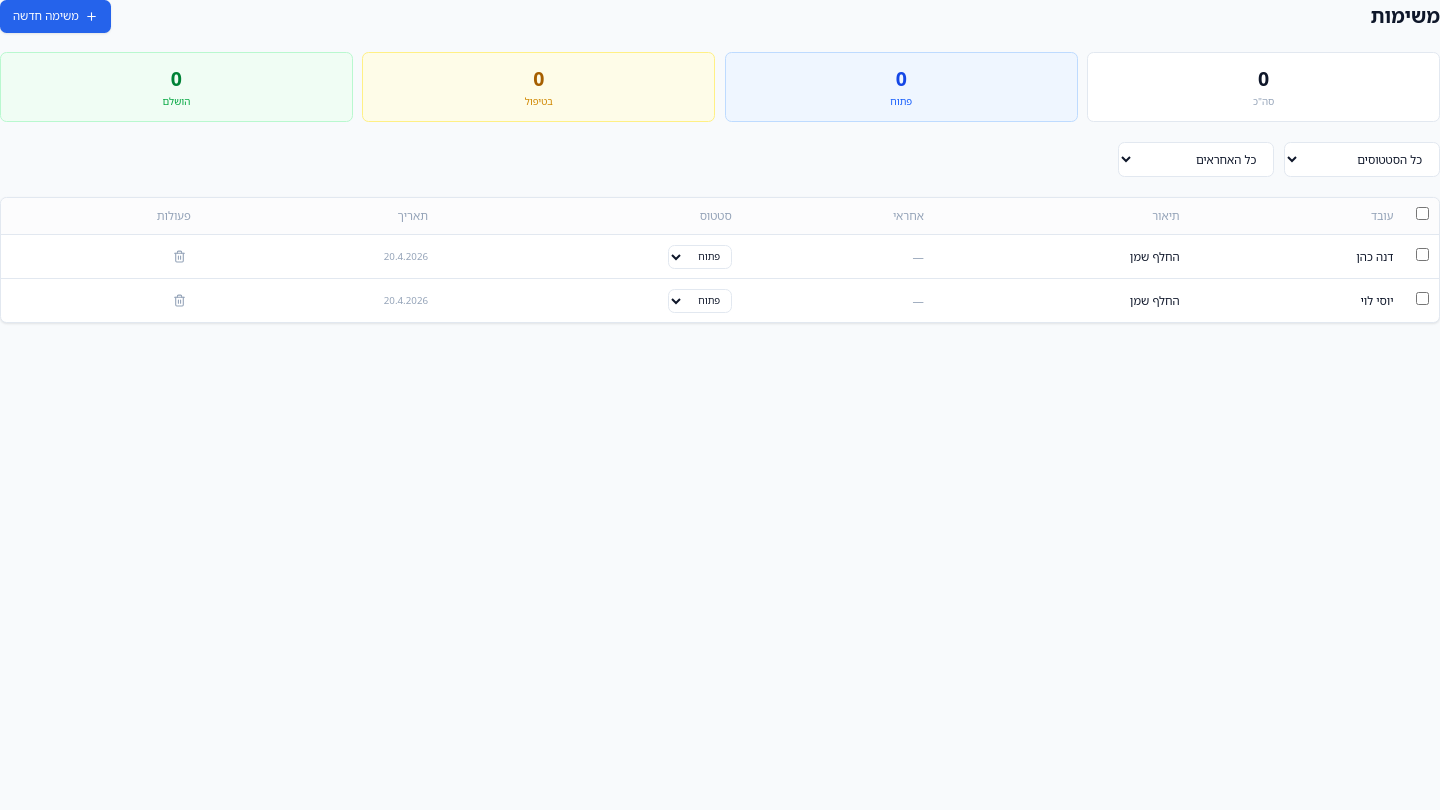
TasksClient — bulk delete flow › thrown error preserves selection and shows the error banner
Click the checkbox named "בחר דנה כהן — החלף שמן": coordinates (1423, 255) [1416,248,1429,261]
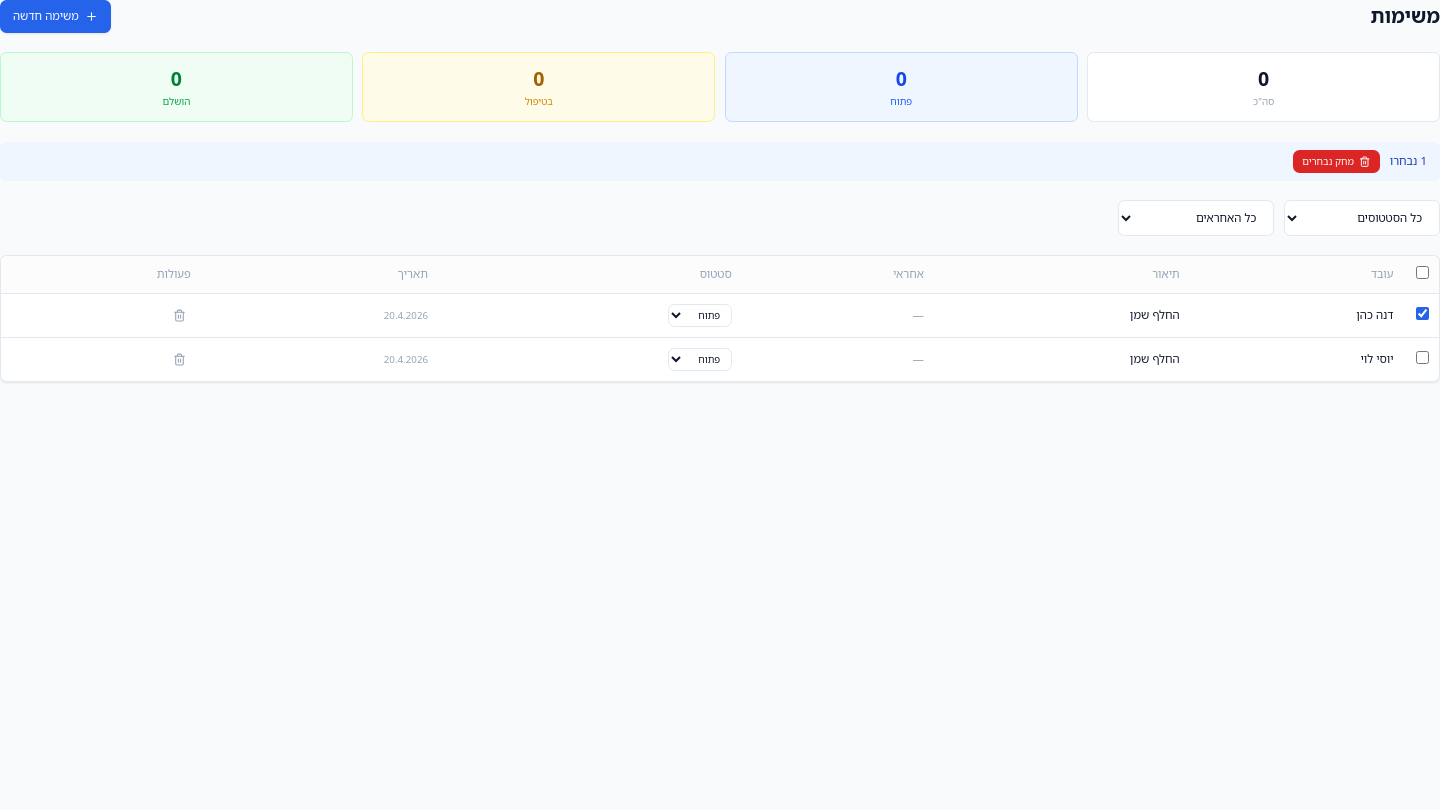
Click the checkbox named "בחר יוסי לוי — החלף שמן": coordinates (1423, 357) [1416,351,1429,364]
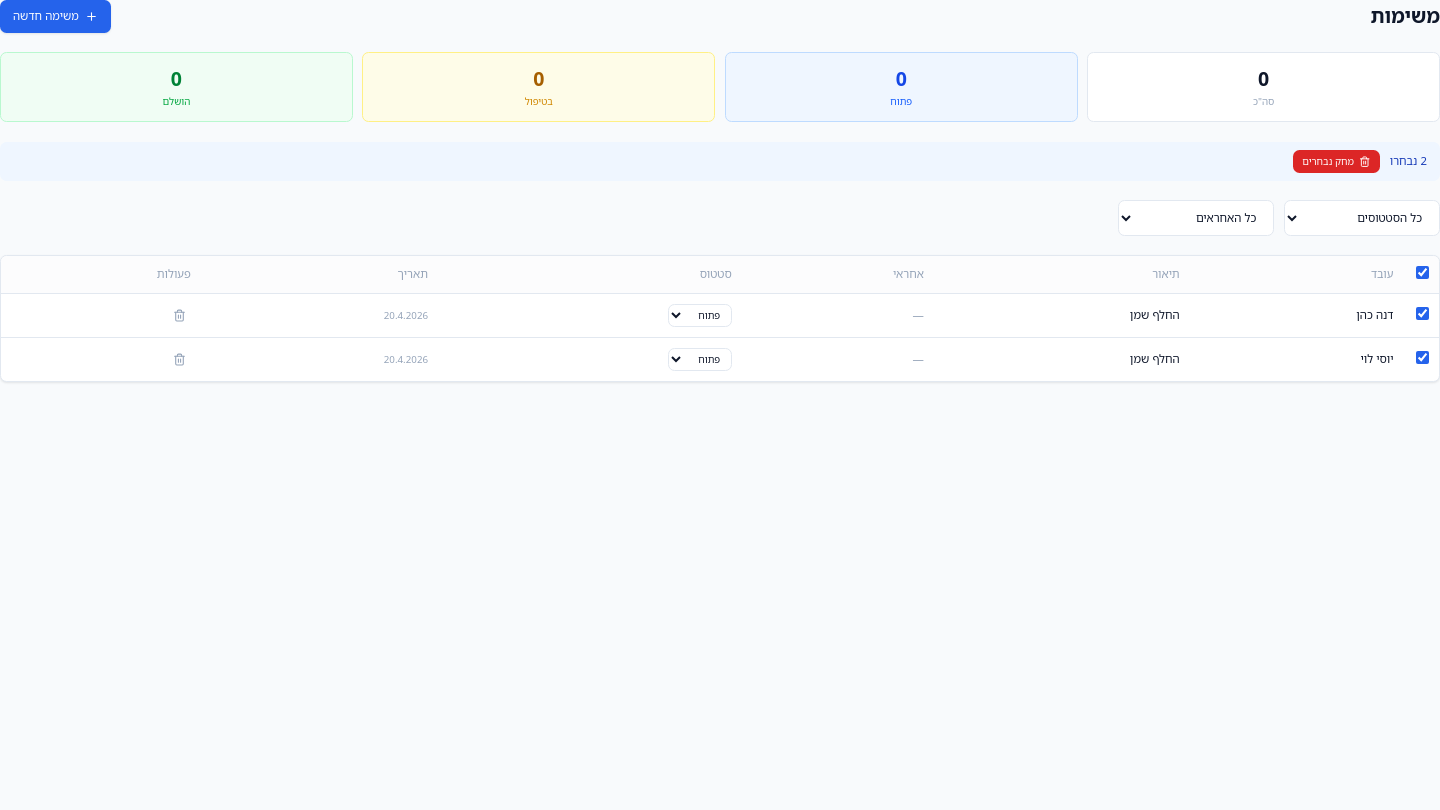
Click the button "מחק נבחרים": coordinates (1336, 161) [1292,150,1380,173]
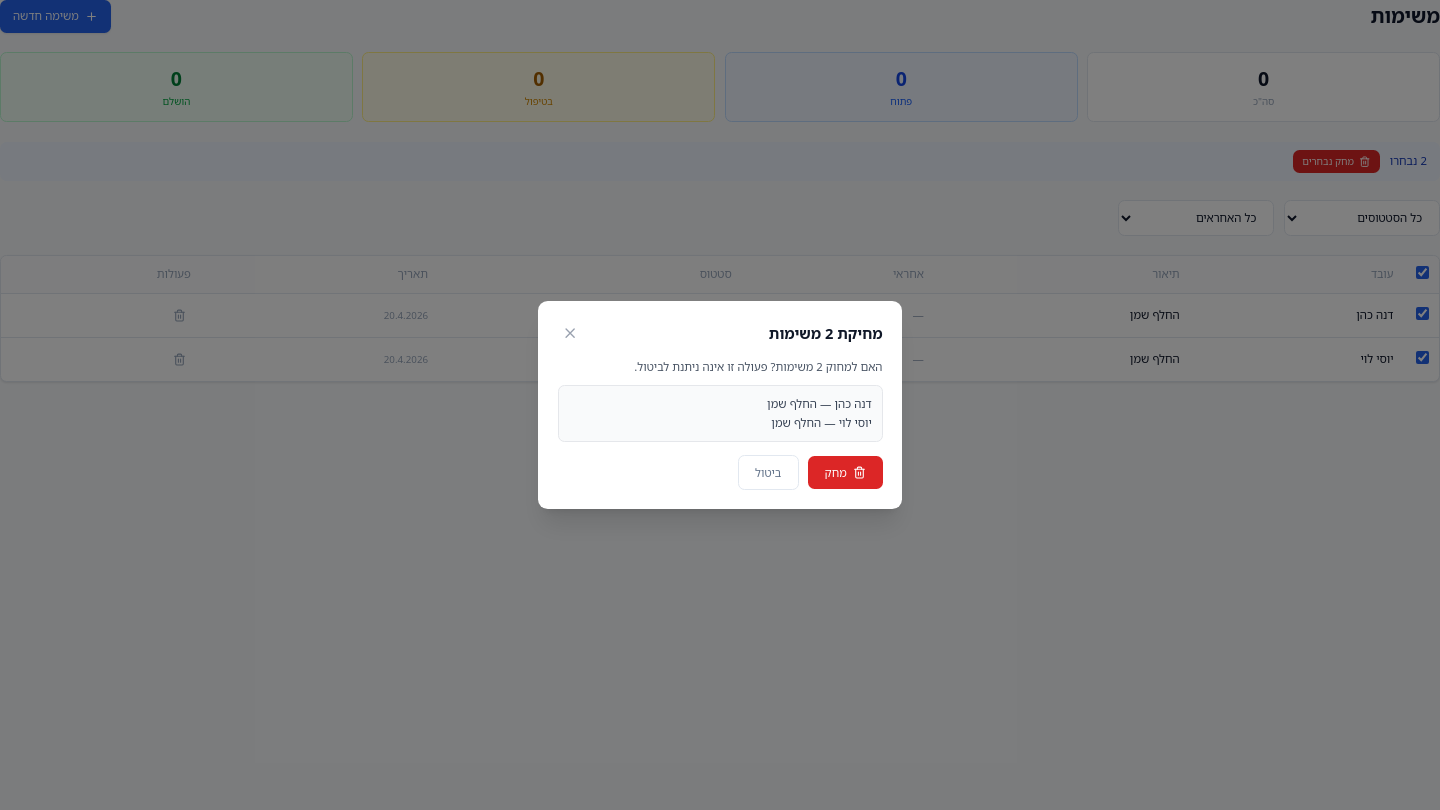
Click the button "מחק": coordinates (845, 473) [808,456,882,489]
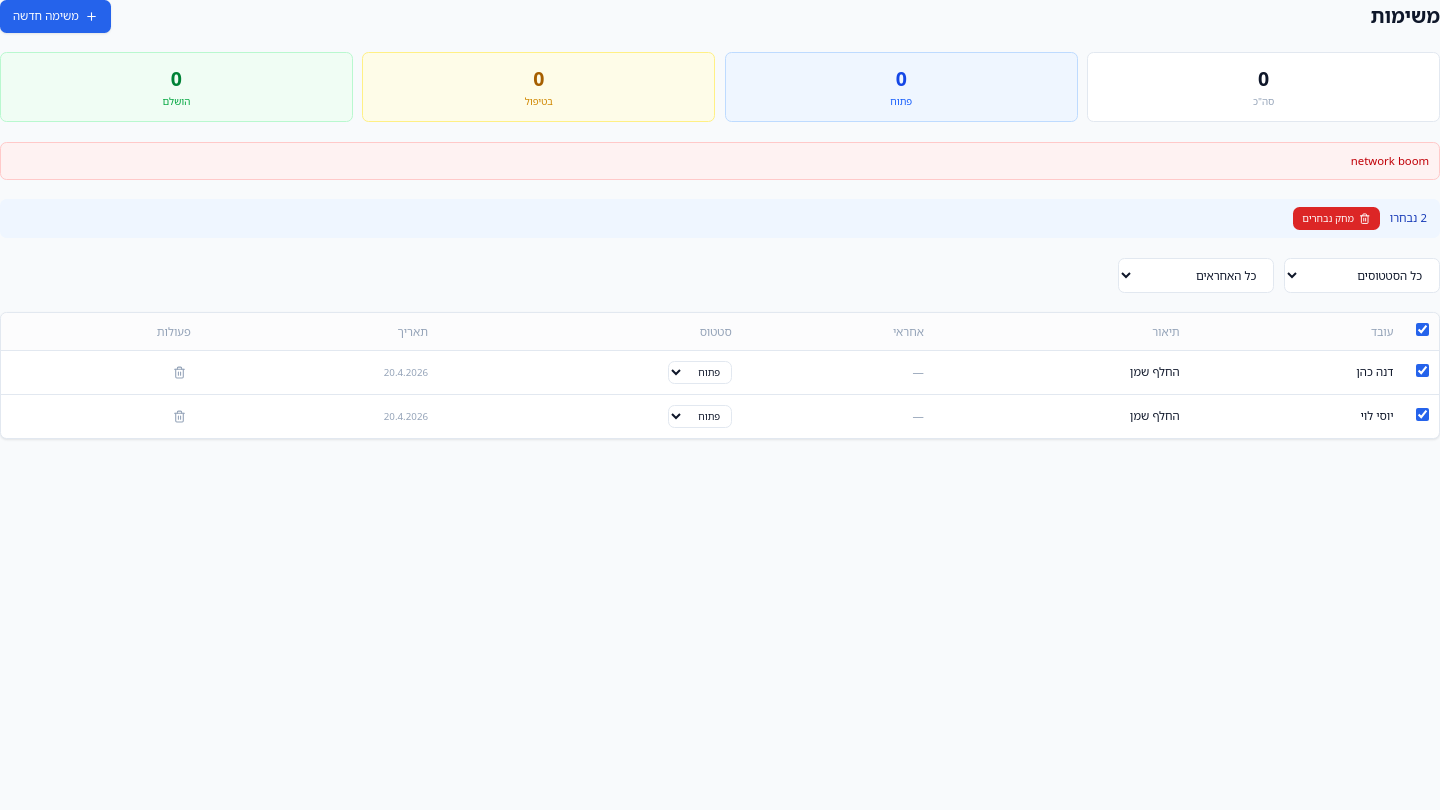
expect the checkbox named "בחר דנה כהן — החלף שמן" is checked: met, box [1416,364,1429,377]
expect the message reads "network boom": met, box [1351,152,1429,168]
expect the heading "מחיקת" is gone: met
